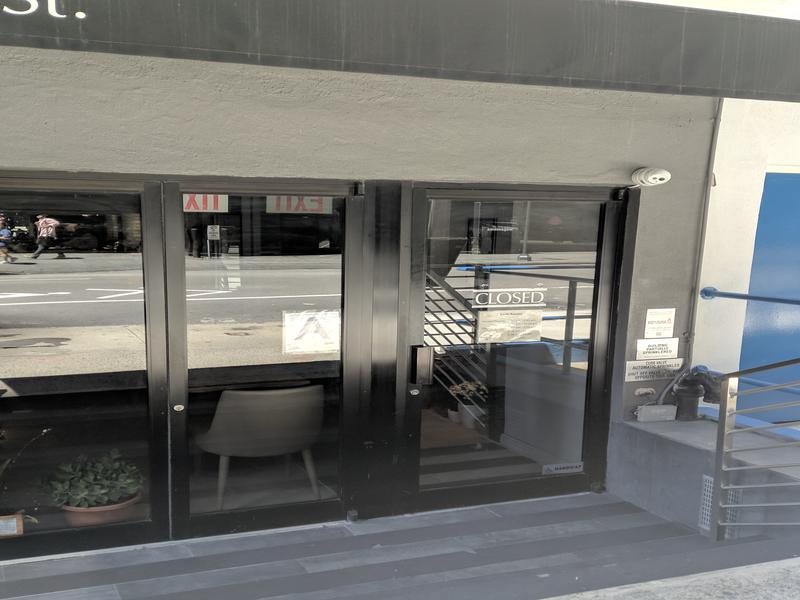door: (396, 180, 630, 506)
